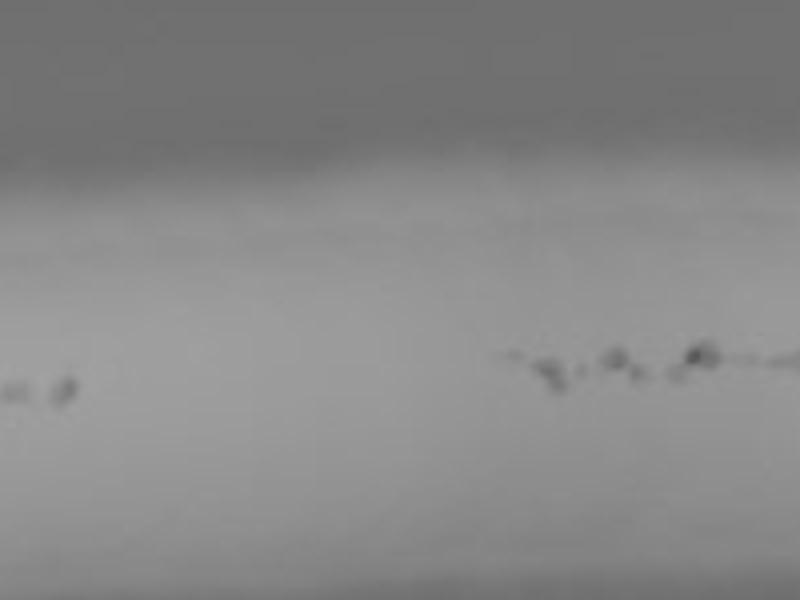defect: (686, 339, 724, 371), (47, 374, 81, 408), (595, 340, 630, 370), (529, 354, 564, 378), (2, 378, 29, 406), (767, 350, 800, 369), (664, 362, 687, 386), (736, 345, 760, 366), (571, 359, 588, 381), (629, 364, 648, 380), (505, 346, 525, 361), (547, 380, 568, 393)
